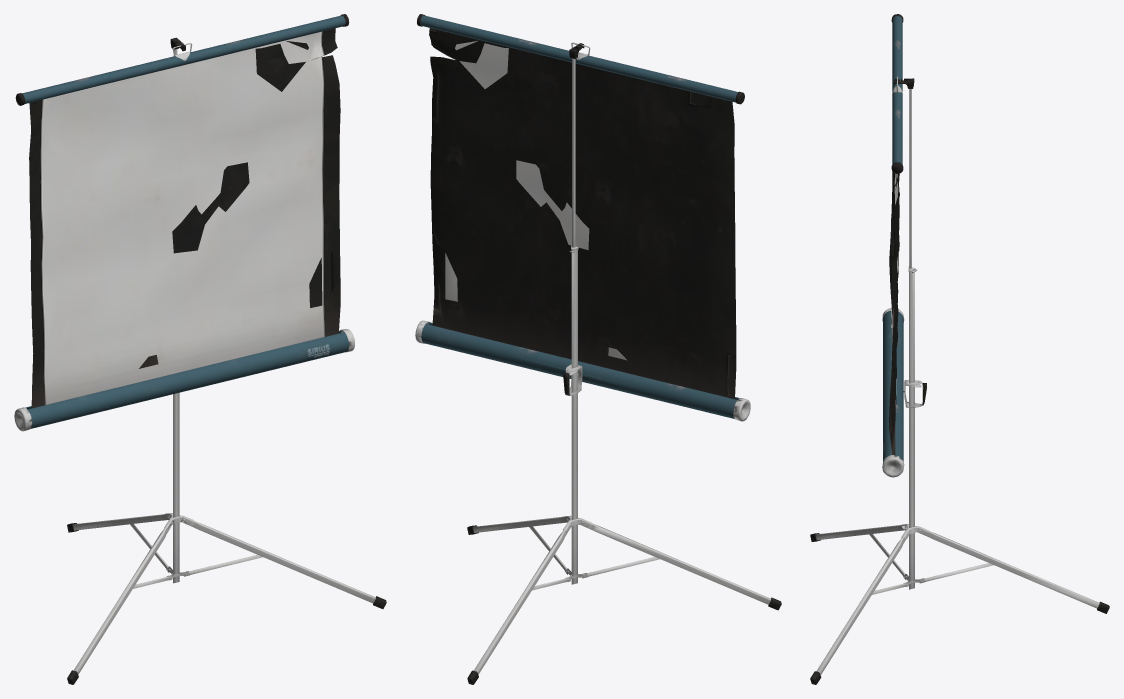
Rendered from projectorScreen.glb.
3 renders of one model, left to right at view 1: azimuth 30°, elevation 25°; view 2: azimuth 150°, elevation 25°; view 3: azimuth 270°, elevation 25°, orthographic. The views are drawn at different scales.
Visible parts, largest first — view 1: projector_screen; view 2: projector_screen; view 3: projector_screen.
Boxes of the visible parts, <box> form: projector_screen: <box>14,14,386,684</box>; projector_screen: <box>415,14,781,684</box>; projector_screen: <box>810,14,1109,684</box>.
Size of the model in its own units: 1.09 by 1.8 by 0.9157.
Materials: 2 (2 with a texture image).
